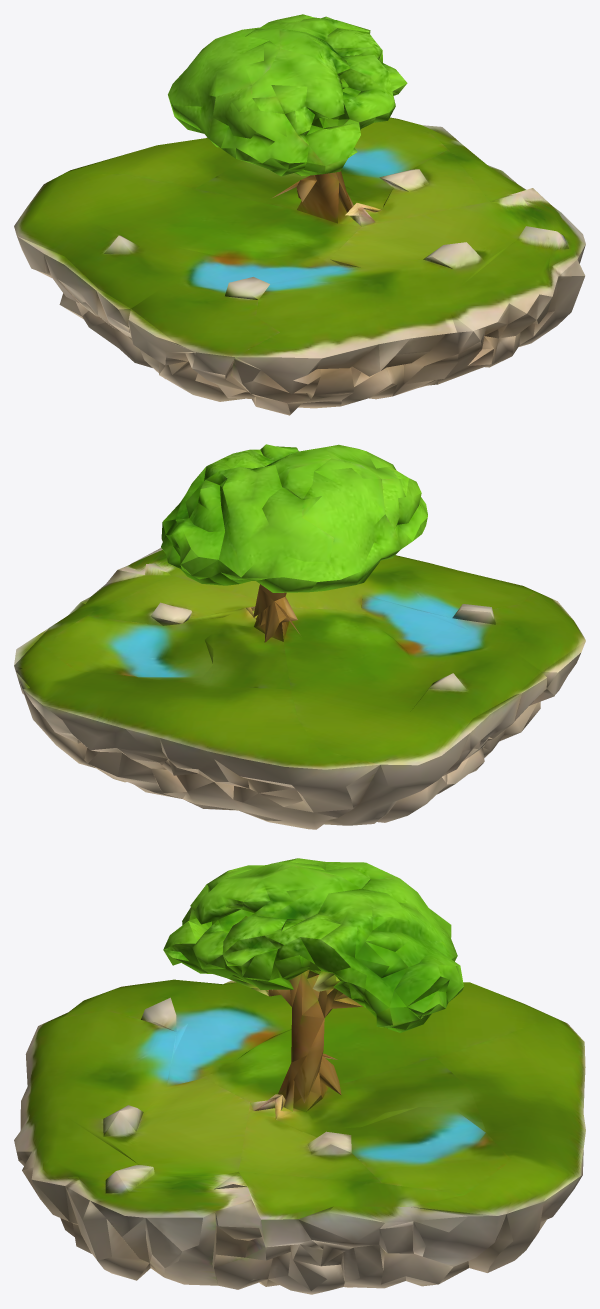
Rendered from m2SwingIsland.glb.
3 views of the same model, one above another, from view 1: azimuth 30°, elevation 25°; view 2: azimuth 150°, elevation 25°; view 3: azimuth 270°, elevation 25° (orthographic). The views are drawn at different scales.
Parts seen in each view (by area): view 1: model; view 2: model; view 3: model.
Part boxes in pixels (x1,y1,x2,y2): model: [14, 14, 585, 415]; model: [14, 444, 585, 829]; model: [14, 858, 585, 1294].
Size of the model in its own units: 1.88 by 1.4 by 1.9.
Materials: 1 (1 with a texture image).
